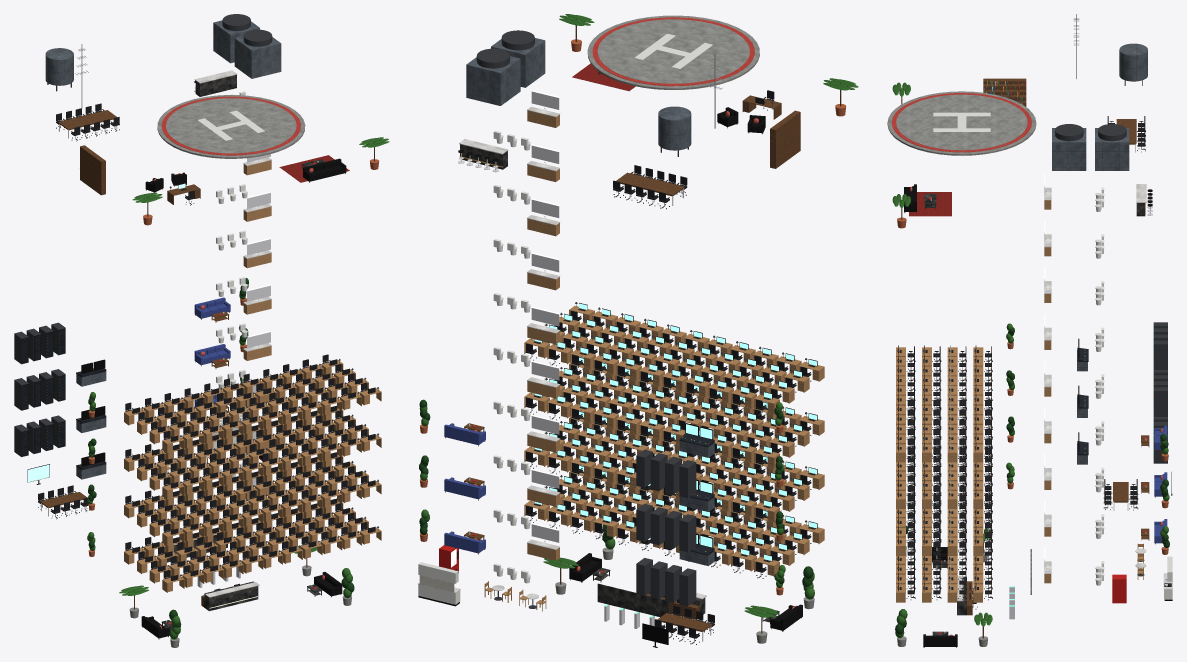
File: i_office_glass_tower.gltf
The picture shows the model from 3 angles, left to right: view 1: azimuth 30°, elevation 25°; view 2: azimuth 150°, elevation 25°; view 3: azimuth 270°, elevation 25°; orthographic projection. The views are drawn at different scales.
Visible parts, largest first — view 1: I_office_glass_tower; view 2: I_office_glass_tower; view 3: I_office_glass_tower.
Boxes of the visible parts, x1,y1,x2,y2 form: I_office_glass_tower: (14,14,389,647); I_office_glass_tower: (418,14,858,647); I_office_glass_tower: (887,14,1172,647).
Bounding box in the file's own units: 20.68 × 41.9 × 19.91.
Materials: 44 (14 with a texture image).
